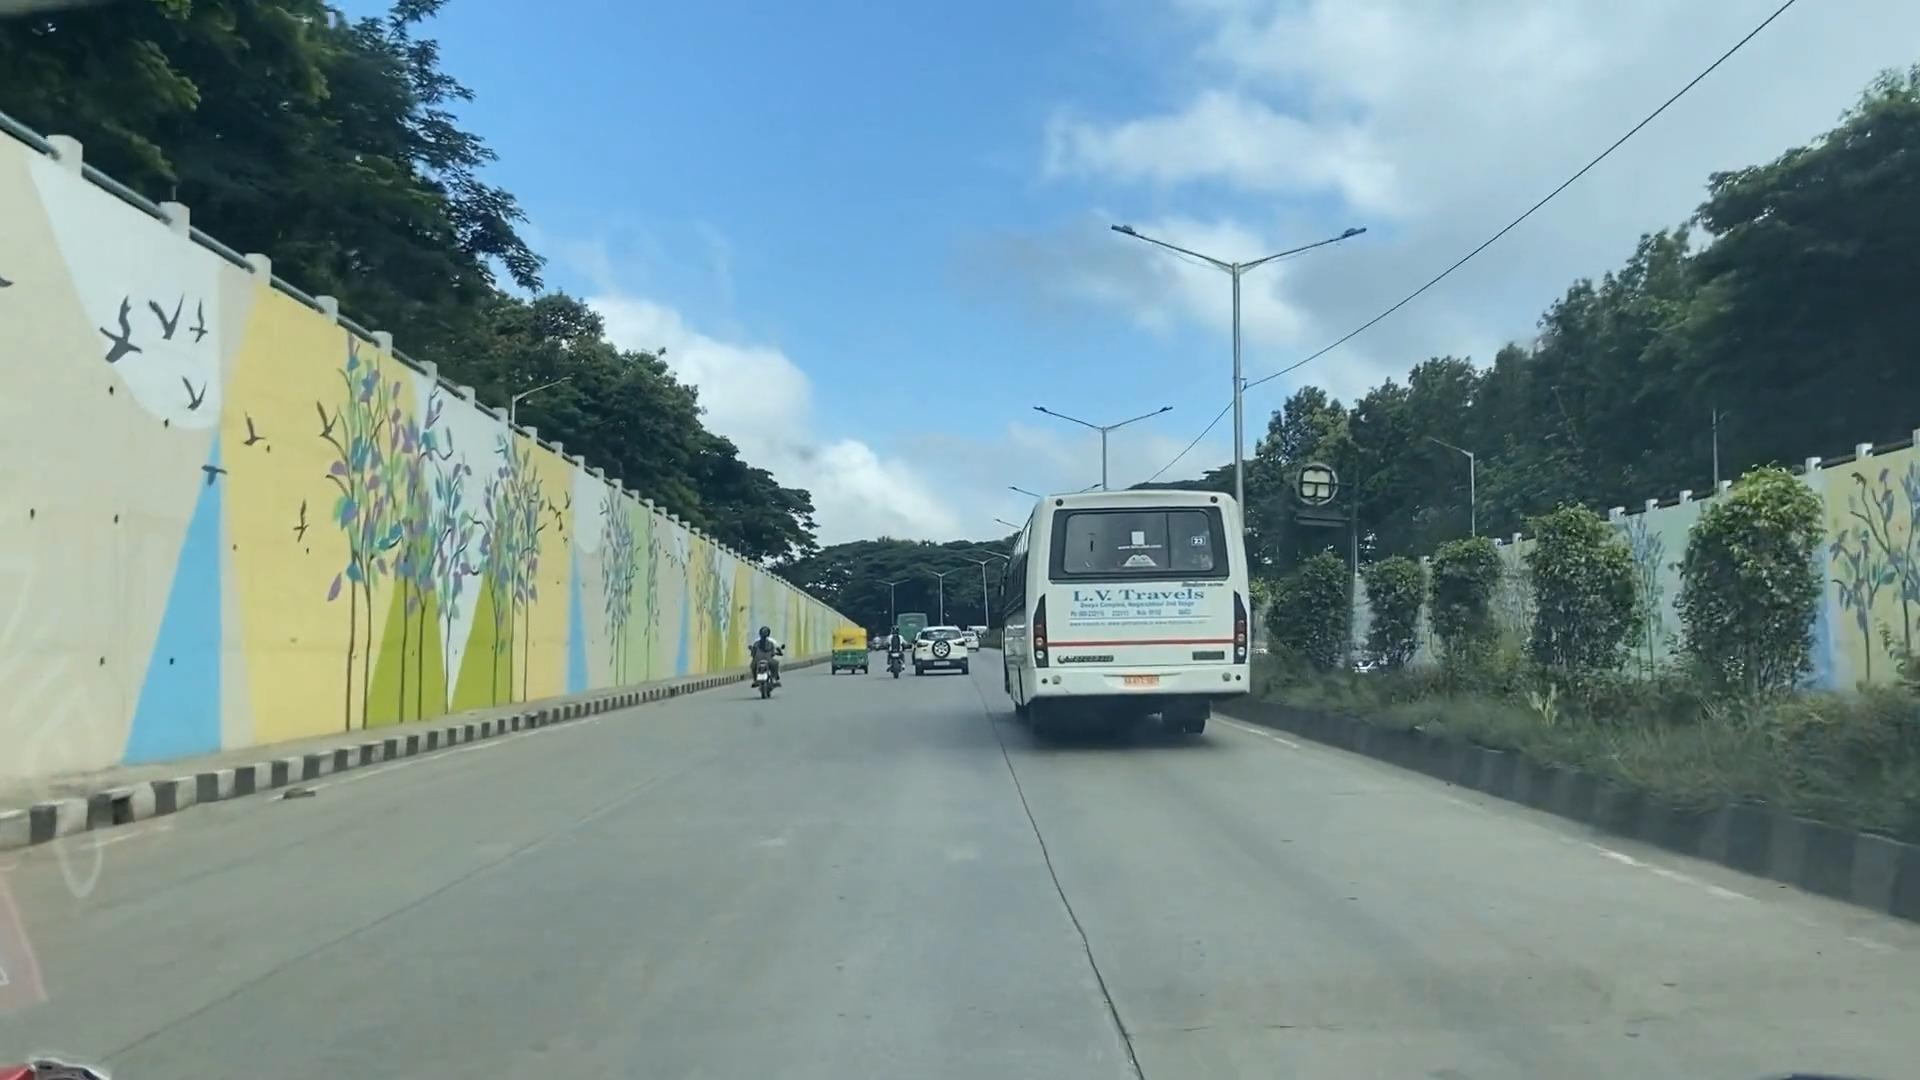HMV: (1004, 495, 1251, 731)
